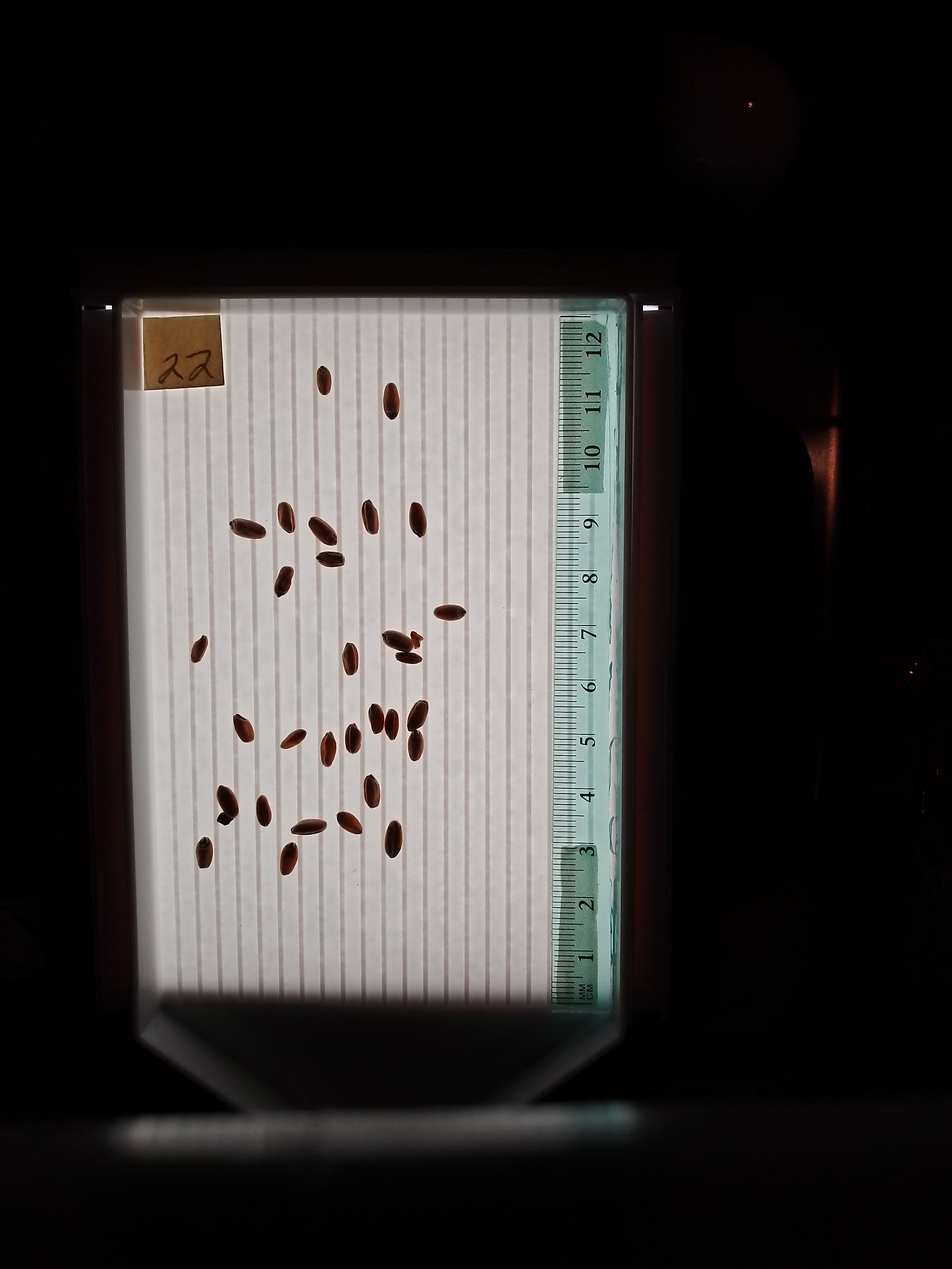seed mask: (309, 517, 338, 546), (231, 518, 266, 540), (383, 630, 413, 655), (216, 786, 238, 817), (407, 700, 429, 730), (385, 822, 402, 858), (361, 501, 379, 535), (274, 566, 294, 596), (291, 818, 326, 835), (383, 384, 400, 419), (280, 843, 298, 876), (409, 503, 427, 536), (277, 502, 296, 533), (233, 715, 254, 743), (364, 775, 381, 808), (338, 812, 363, 834), (320, 734, 337, 766), (434, 604, 465, 621), (196, 838, 213, 869), (342, 644, 359, 674), (281, 729, 306, 749), (190, 636, 208, 663), (369, 704, 385, 734), (256, 795, 271, 826), (408, 731, 424, 760), (316, 366, 332, 395), (385, 710, 400, 740), (345, 725, 361, 753), (317, 552, 344, 568), (397, 653, 420, 664)
